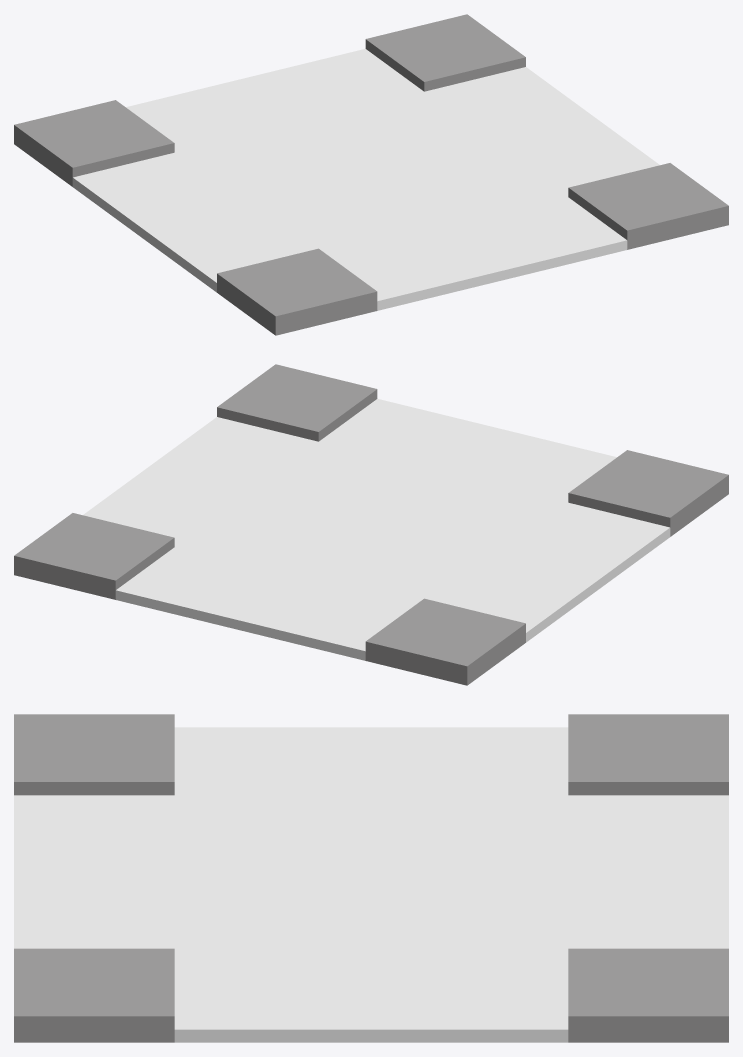
The model's file is road_I_49.gltf.
The picture shows the model from 3 angles, top to bottom: view 1: azimuth 30°, elevation 25°; view 2: azimuth 150°, elevation 25°; view 3: azimuth 270°, elevation 25°; orthographic projection. The views are drawn at different scales.
Visible parts, largest first — view 1: tar, stone, ink; view 2: tar, stone, ink; view 3: tar, stone, ink.
Part boxes in pixels (x1,y1,x2,y2): tar: (78,51,659,308); stone: (14,14,728,335); ink: (72,48,627,310); tar: (83,401,664,658); stone: (14,364,728,685); ink: (111,398,670,660); tar: (14,727,728,1042); stone: (14,714,728,1042); ink: (14,727,728,1042).
Size of the model in its own units: 49 by 2 by 49.
Materials: 3 (3 with a texture image).
